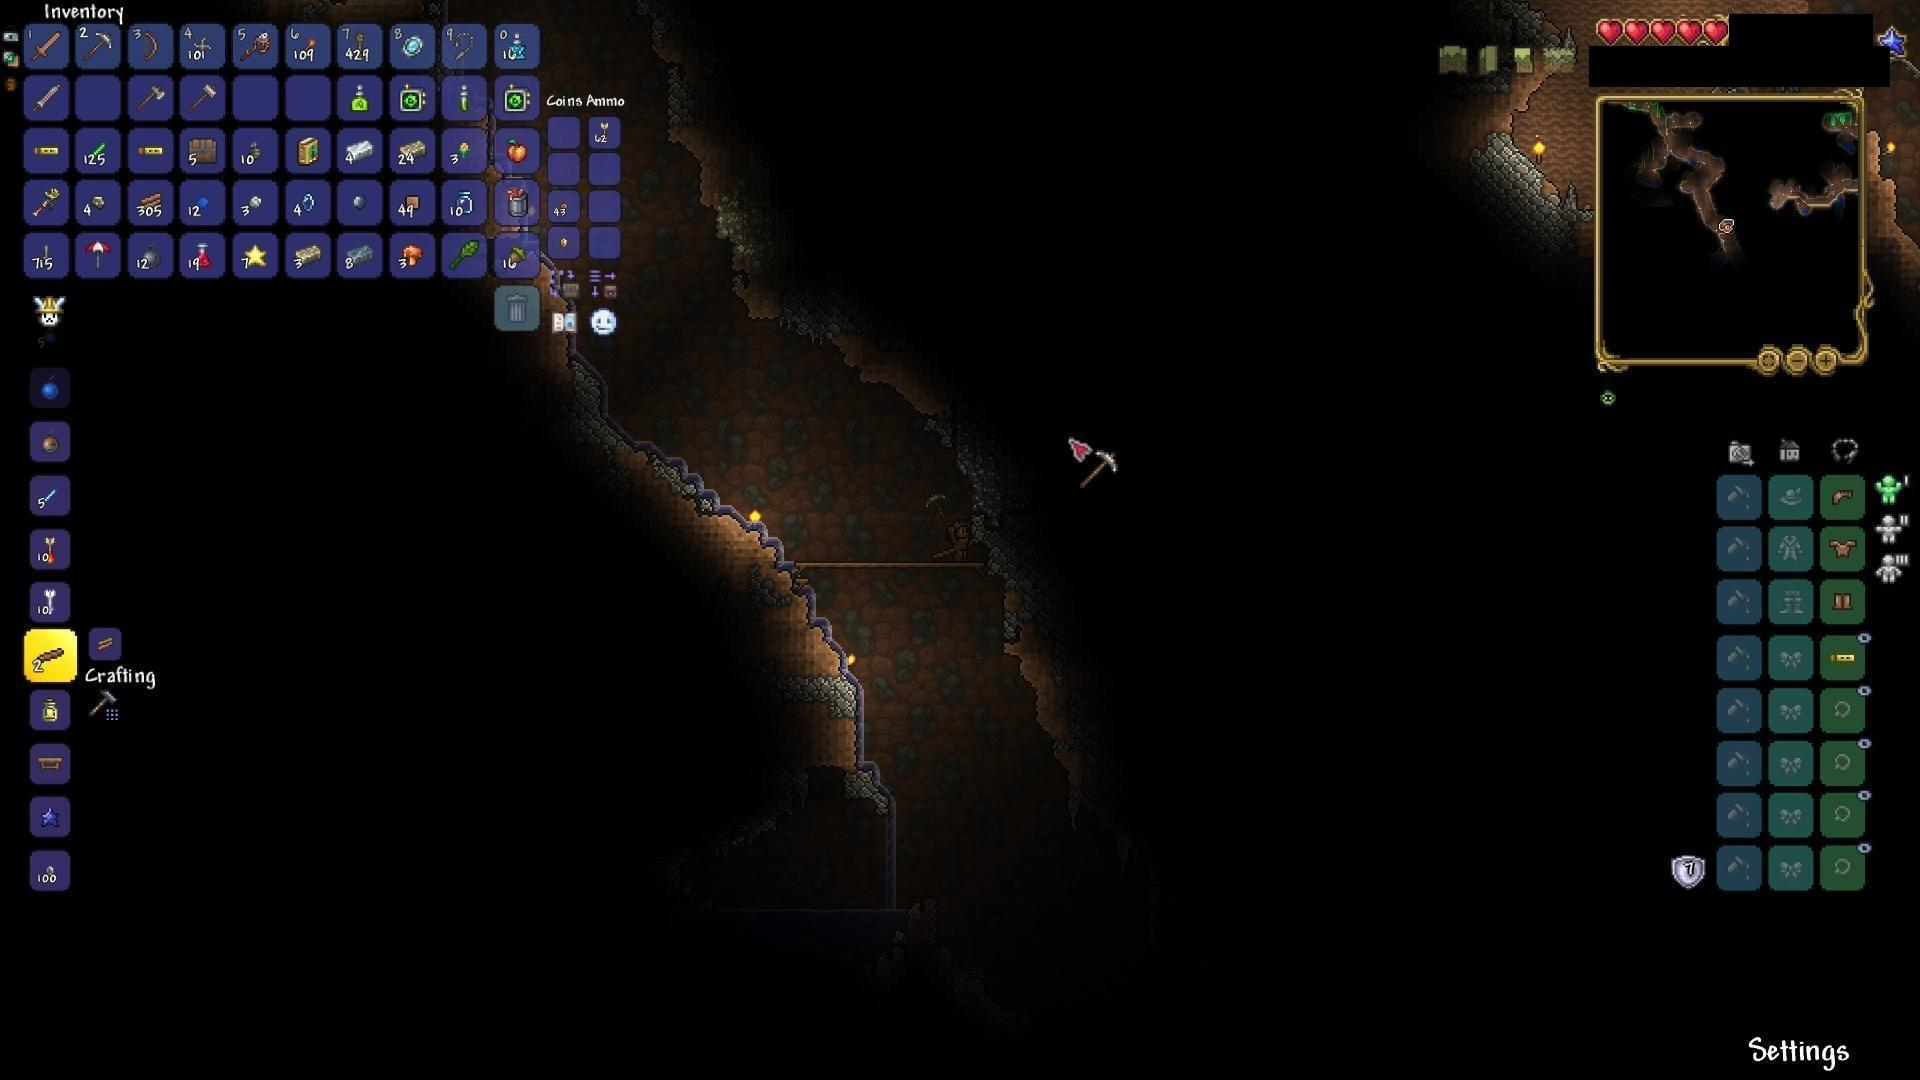heart: (1702, 17, 1733, 51), (1593, 16, 1626, 46), (1676, 15, 1704, 50), (1650, 16, 1676, 49), (1625, 15, 1651, 44)
stone: (1490, 137, 1567, 240), (760, 670, 858, 712), (840, 762, 891, 810)
